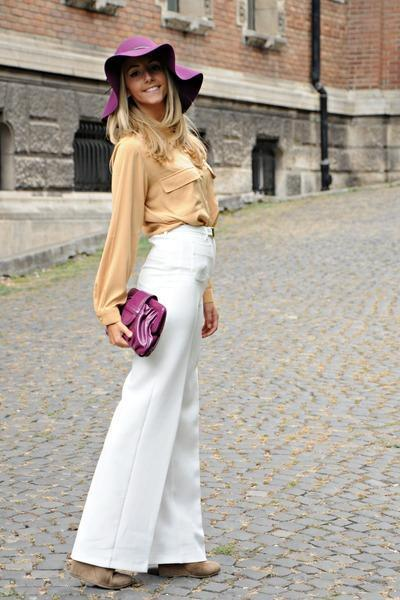bag: (112, 288, 166, 365)
hat: (84, 33, 213, 119)
pants: (71, 226, 220, 571)
shirt: (93, 128, 230, 323)
shoe: (70, 560, 219, 590)
